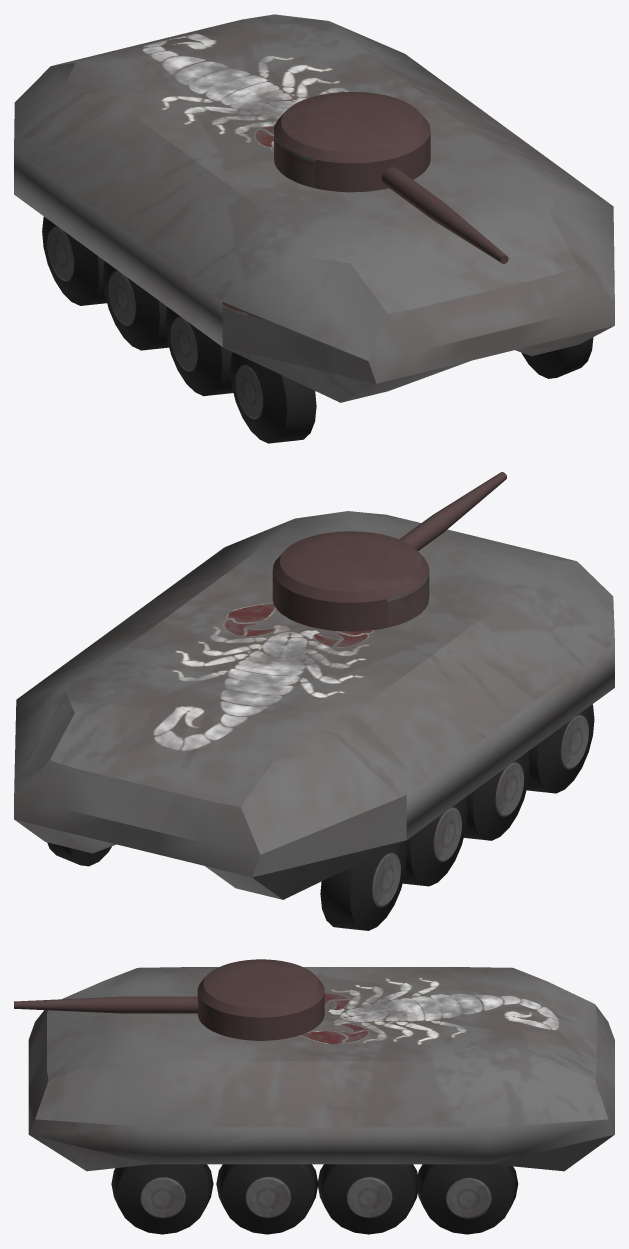
File: APC_3.fbx
3 renders of one model, top to bottom at view 1: azimuth 30°, elevation 25°; view 2: azimuth 150°, elevation 25°; view 3: azimuth 270°, elevation 25°, orthographic. The views are drawn at different scales.
Visible parts, largest first — view 1: polySurface11, polySurface10, polySurface2, polySurface4, polySurface6, polySurface8, polySurface9, polySurface1; view 2: polySurface11, polySurface10, polySurface8, polySurface2, polySurface4, polySurface6, polySurface9, polySurface7; view 3: polySurface11, polySurface10, polySurface3, polySurface5, polySurface7, polySurface1, polySurface9.
Boxes of the visible parts, x1,y1,x2,y2 form: polySurface11: (14,14,614,402); polySurface10: (274,91,430,192); polySurface2: (230,352,316,443); polySurface4: (165,307,233,396); polySurface6: (103,261,168,350); polySurface8: (42,216,106,305); polySurface9: (382,167,508,263); polySurface1: (521,337,593,378); polySurface11: (14,511,614,899); polySurface10: (272,531,429,631); polySurface8: (320,841,406,930); polySurface2: (526,704,594,793); polySurface4: (463,751,529,840); polySurface6: (402,797,467,886); polySurface9: (399,472,506,550); polySurface7: (47,842,111,866); polySurface11: (28,967,614,1171); polySurface10: (197,959,324,1040); polySurface3: (216,1164,317,1234); polySurface5: (318,1164,417,1234); polySurface7: (418,1164,518,1234); polySurface1: (111,1164,213,1234); polySurface9: (14,996,198,1013).
Size of the model in its own units: 8.64 by 5.24 by 14.18.
